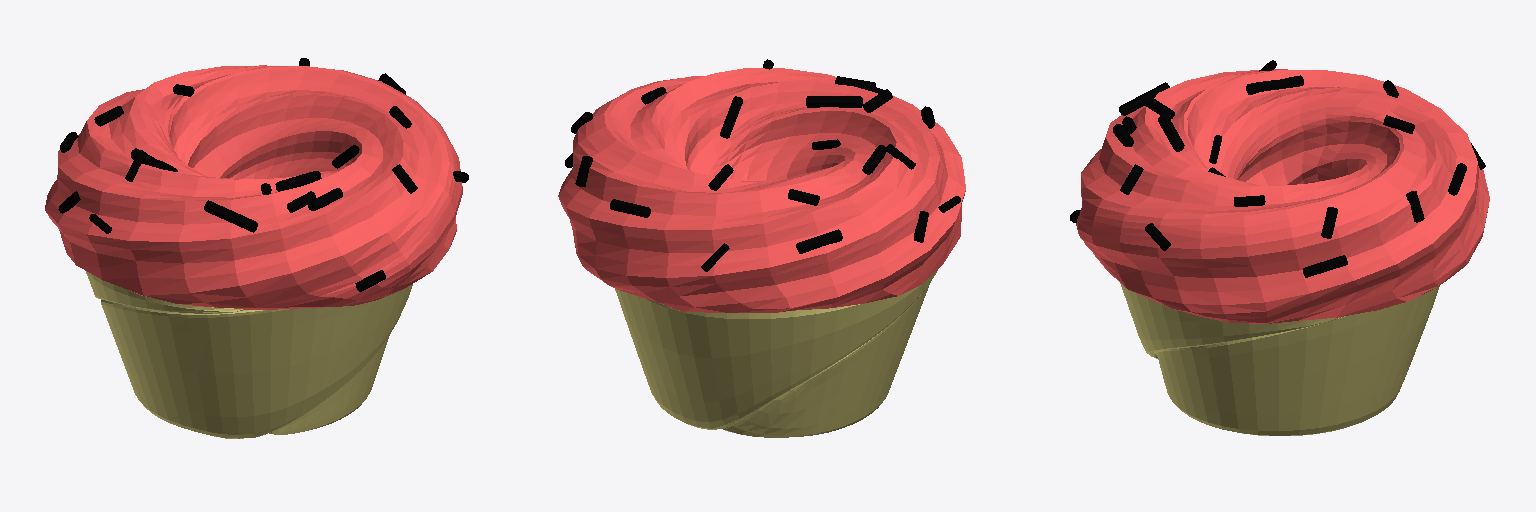
The model's file is cupcake.obj.
3 views of the same model, side by side, from view 1: azimuth 30°, elevation 25°; view 2: azimuth 150°, elevation 25°; view 3: azimuth 270°, elevation 25° (orthographic).
Visible parts, largest first — view 1: cae cream, cup cae, cae choc; view 2: cae cream, cup cae, cae choc; view 3: cae cream, cup cae, cae choc.
Boxes of the visible parts, x1=… form: cae cream: x1=45, y1=65, x2=462, y2=309; cup cae: x1=86, y1=271, x2=412, y2=438; cae choc: x1=58, y1=58, x2=468, y2=291; cae cream: x1=558, y1=68, x2=965, y2=312; cup cae: x1=615, y1=270, x2=937, y2=437; cae choc: x1=565, y1=59, x2=960, y2=271; cae cream: x1=1076, y1=69, x2=1489, y2=323; cup cae: x1=1120, y1=283, x2=1439, y2=435; cae choc: x1=1070, y1=60, x2=1485, y2=277.
Bounding box in the file's own units: 11.57 × 8.45 × 11.7.